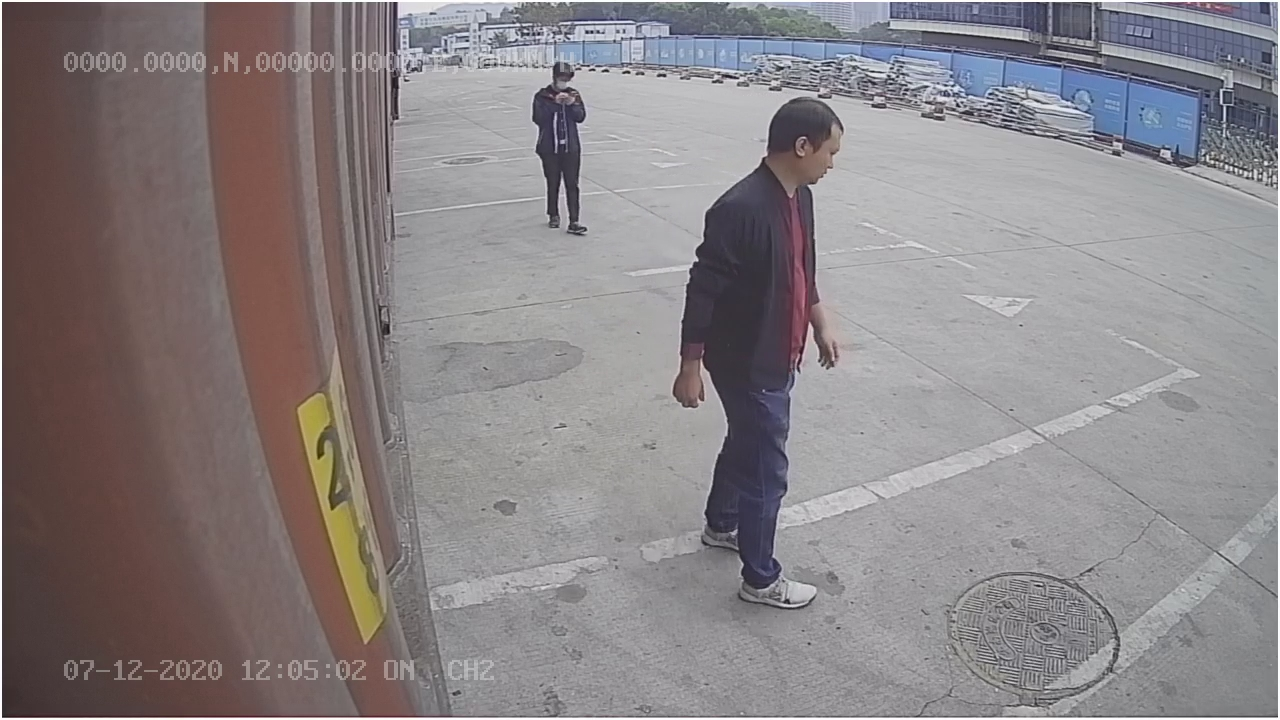person: (672, 84, 849, 609)
